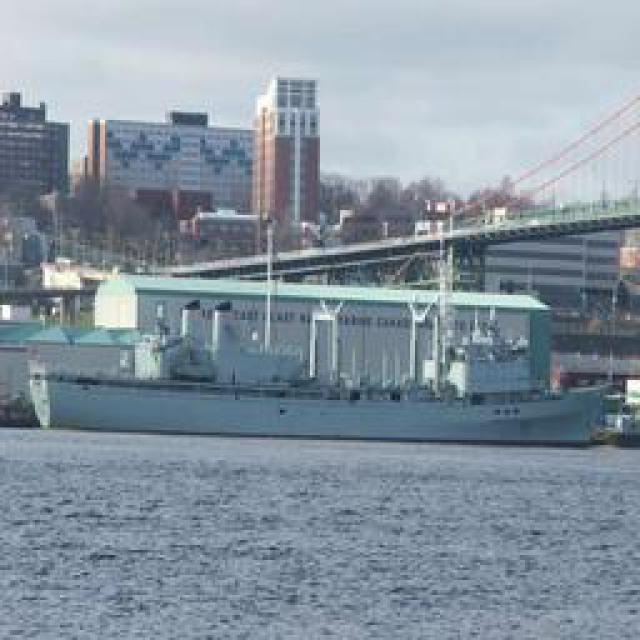Ship: (10, 284, 608, 447)
